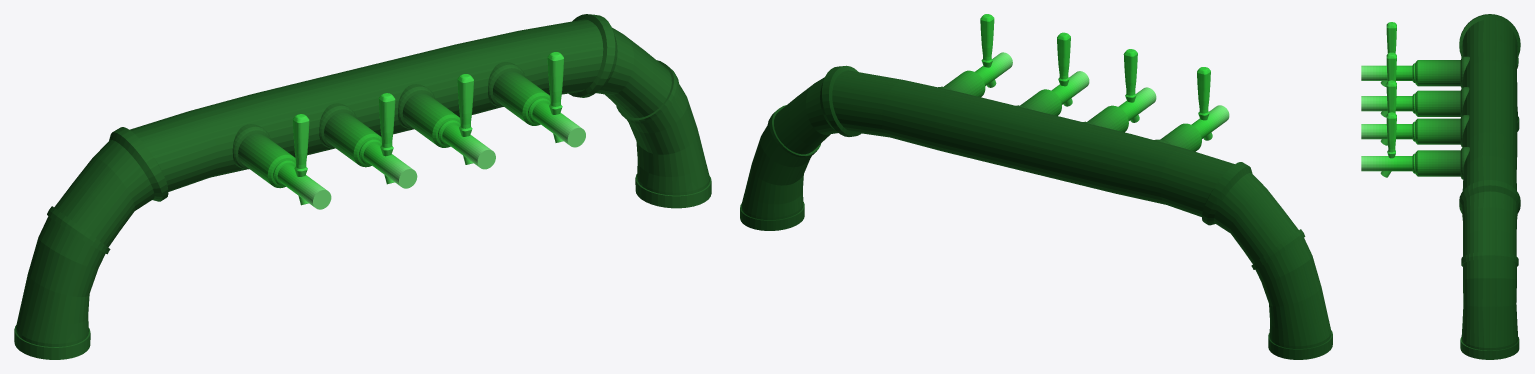
The model's file is Beer Tap.fbx.
The picture shows the model from 3 angles, left to right: view 1: azimuth 30°, elevation 25°; view 2: azimuth 150°, elevation 25°; view 3: azimuth 270°, elevation 25°; orthographic projection. The views are drawn at different scales.
Parts seen in each view (by area): view 1: Beer Tap; view 2: Beer Tap; view 3: Beer Tap.
Boxes of the visible parts, <box> form: Beer Tap: <box>14,14,711,359</box>; Beer Tap: <box>740,14,1332,359</box>; Beer Tap: <box>1361,14,1520,359</box>.
Size of the model in its own units: 468 by 152 by 130.
